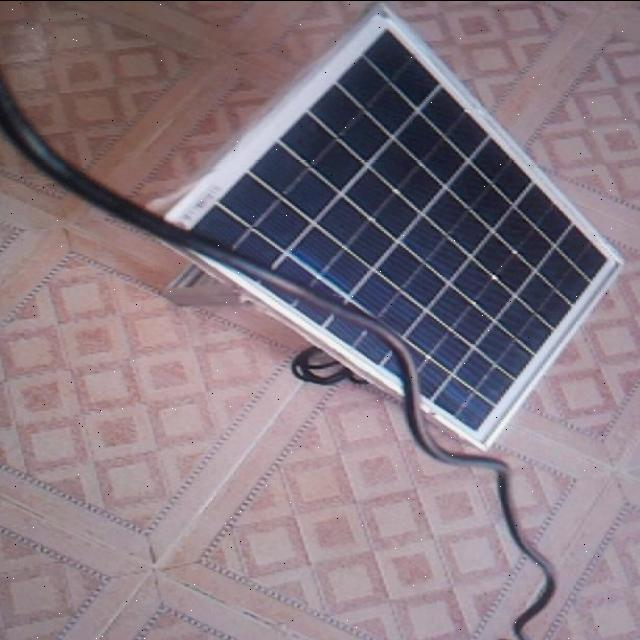Normal Solar Panel: (165, 2, 623, 446)
